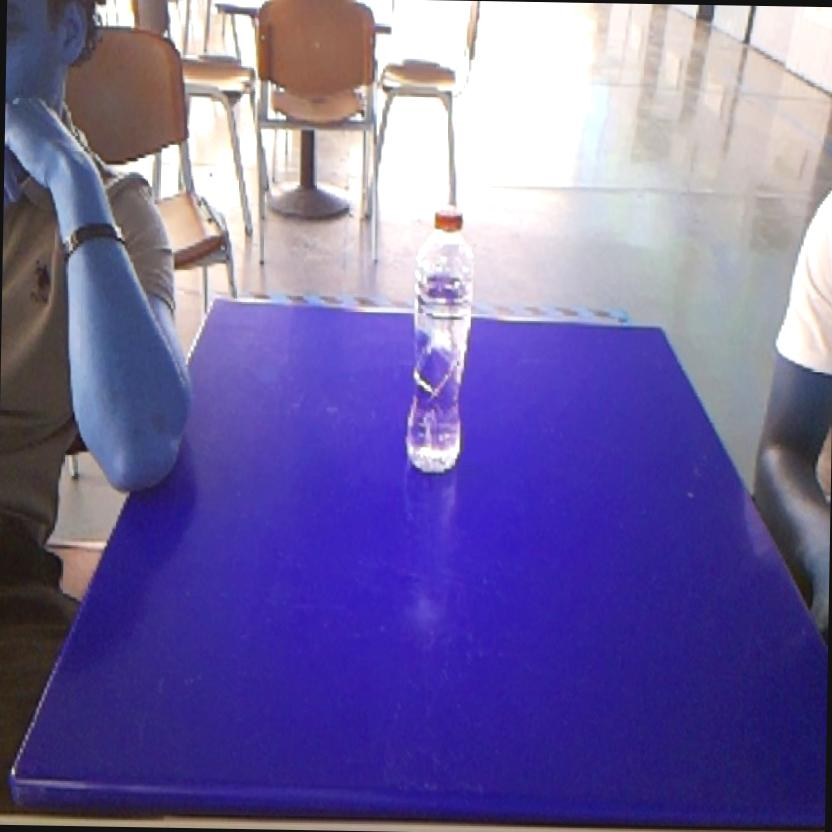no_label: (398, 195, 482, 482)
